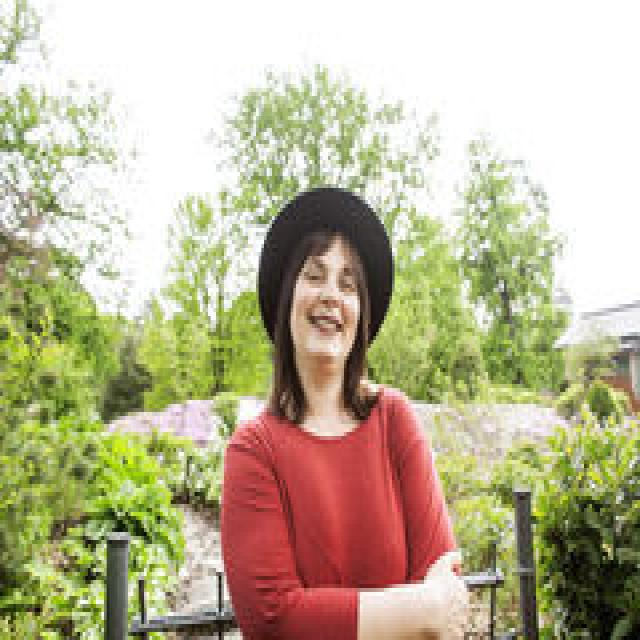hat: (259, 192, 389, 376)
